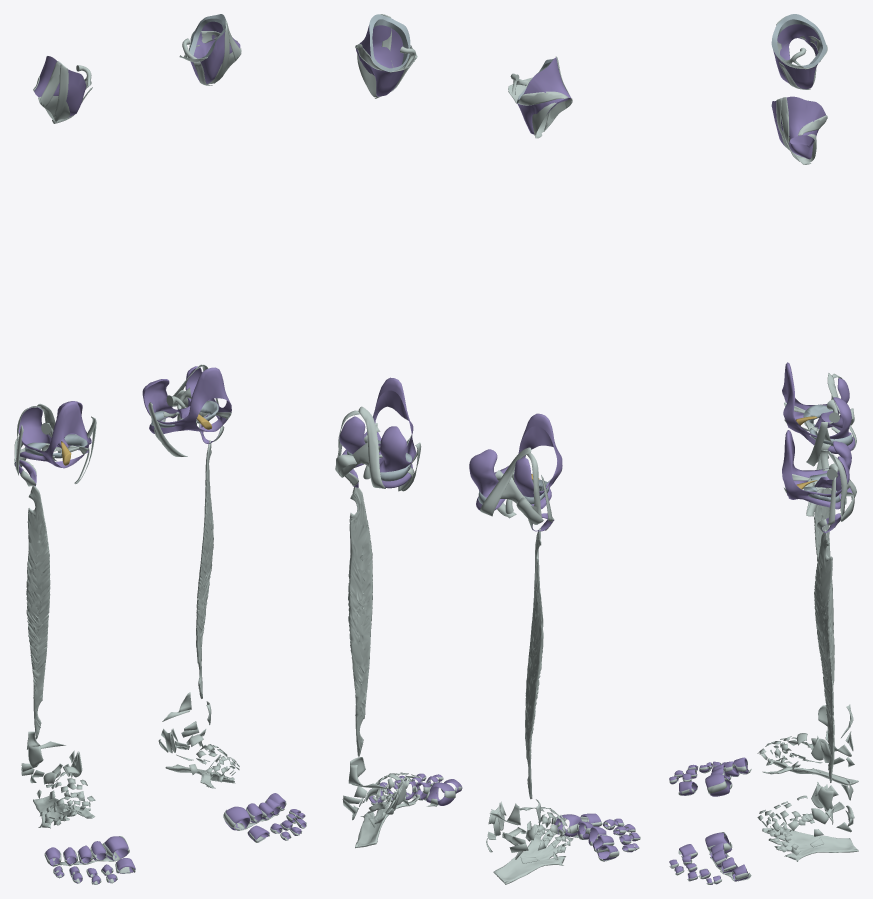
Rendered from joints-lower-limb.glb.
The picture shows the model from 3 angles, left to right: view 1: azimuth 30°, elevation 25°; view 2: azimuth 150°, elevation 25°; view 3: azimuth 270°, elevation 25°; orthographic projection. The views are drawn at different scales.
Parts seen in each view (by area): view 1: joint-interosseous-membrane-of-leg-r, joint-articular-capsule-of-knee-joint-l, joint-articular-capsule-of-knee-joint-r, joint-interosseous-membrane-of-leg-l, joint-articular-capsule-of-hip-joint-l, joint-articular-capsules-of-metatarsophalangeal-joints-r, joint-articular-capsule-of-hip-joint-r, joint-articular-capsules-of-metatarsophalangeal-joints-l, joint-long-plantar-ligament-r; view 2: joint-interosseous-membrane-of-leg-l, joint-articular-capsule-of-knee-joint-l, joint-articular-capsule-of-knee-joint-r, joint-interosseous-membrane-of-leg-r, joint-articular-capsule-of-hip-joint-l, joint-long-plantar-ligament-r, joint-articular-capsule-of-hip-joint-r, joint-articular-capsules-of-metatarsophalangeal-joints-r, joint-long-plantar-ligament-l, joint-oblique-popliteal-ligament-l, joint-acetabular-labrum-l, joint-oblique-popliteal-ligament-r (+2 smaller); view 3: joint-interosseous-membrane-of-leg-l, joint-articular-capsule-of-knee-joint-l, joint-articular-capsule-of-knee-joint-r, joint-articular-capsule-of-hip-joint-l, joint-long-plantar-ligament-l, joint-articular-capsule-of-hip-joint-r, joint-interosseous-membrane-of-leg-r, joint-acetabular-labrum-r, joint-articular-capsules-of-metatarsophalangeal-joints-l, joint-articular-capsules-of-metatarsophalangeal-joints-r, joint-long-plantar-ligament-r.
Boxes of the visible parts, left/top/right/bottom form: joint-interosseous-membrane-of-leg-r: left=26, top=486, right=50, bottom=739; joint-articular-capsule-of-knee-joint-l: left=142, top=366, right=231, bottom=433; joint-articular-capsule-of-knee-joint-r: left=18, top=401, right=91, bottom=468; joint-interosseous-membrane-of-leg-l: left=196, top=440, right=213, bottom=698; joint-articular-capsule-of-hip-joint-l: left=190, top=21, right=240, bottom=83; joint-articular-capsules-of-metatarsophalangeal-joints-r: left=45, top=836, right=128, bottom=866; joint-articular-capsule-of-hip-joint-r: left=34, top=56, right=86, bottom=117; joint-articular-capsules-of-metatarsophalangeal-joints-l: left=225, top=793, right=285, bottom=830; joint-long-plantar-ligament-r: left=33, top=795, right=94, bottom=828; joint-interosseous-membrane-of-leg-l: left=348, top=487, right=372, bottom=757; joint-articular-capsule-of-knee-joint-l: left=339, top=377, right=416, bottom=488; joint-articular-capsule-of-knee-joint-r: left=469, top=413, right=562, bottom=510; joint-interosseous-membrane-of-leg-r: left=525, top=528, right=543, bottom=799; joint-articular-capsule-of-hip-joint-l: left=356, top=25, right=404, bottom=96; joint-long-plantar-ligament-r: left=493, top=829, right=565, bottom=884; joint-articular-capsule-of-hip-joint-r: left=517, top=57, right=571, bottom=134; joint-articular-capsules-of-metatarsophalangeal-joints-r: left=554, top=814, right=618, bottom=860; joint-long-plantar-ligament-l: left=355, top=793, right=419, bottom=848; joint-oblique-popliteal-ligament-l: left=358, top=406, right=385, bottom=488; joint-acetabular-labrum-l: left=369, top=14, right=410, bottom=71; joint-oblique-popliteal-ligament-r: left=480, top=447, right=531, bottom=516; joint-interosseous-membrane-of-leg-l: left=814, top=530, right=834, bottom=782; joint-articular-capsule-of-knee-joint-l: left=782, top=430, right=852, bottom=509; joint-articular-capsule-of-knee-joint-r: left=782, top=362, right=855, bottom=453; joint-articular-capsule-of-hip-joint-l: left=771, top=96, right=825, bottom=159; joint-long-plantar-ligament-l: left=762, top=827, right=858, bottom=861; joint-articular-capsule-of-hip-joint-r: left=773, top=24, right=819, bottom=89; joint-interosseous-membrane-of-leg-r: left=814, top=453, right=834, bottom=684; joint-acetabular-labrum-r: left=771, top=14, right=826, bottom=67; joint-articular-capsules-of-metatarsophalangeal-joints-l: left=705, top=832, right=748, bottom=881; joint-articular-capsules-of-metatarsophalangeal-joints-r: left=705, top=757, right=748, bottom=796; joint-long-plantar-ligament-r: left=762, top=759, right=858, bottom=785.
Bounding box in the file's own units: 0.2935 × 0.8802 × 0.196.
